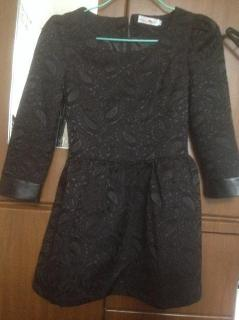long sleeve dress: (0, 6, 239, 309)
